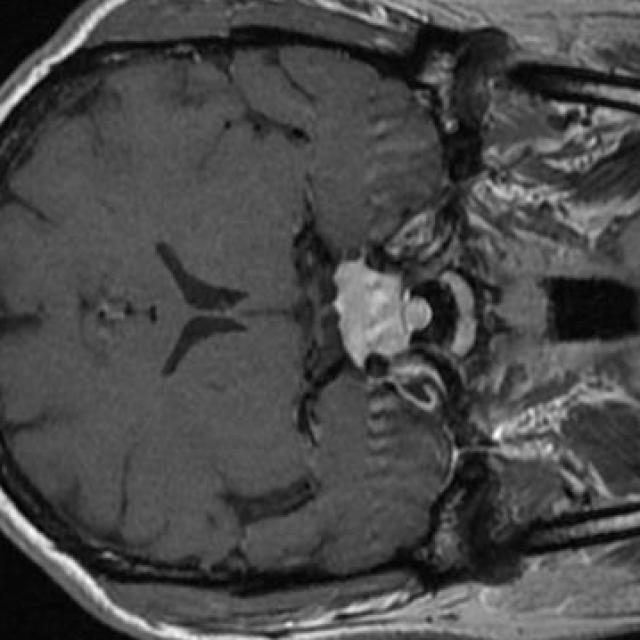pituitary: (333, 262, 433, 369)
